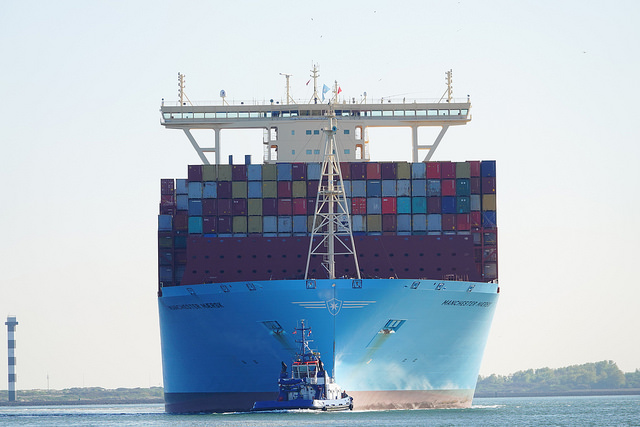container_ship: (156, 64, 501, 410)
tug_boat: (256, 318, 356, 411)
